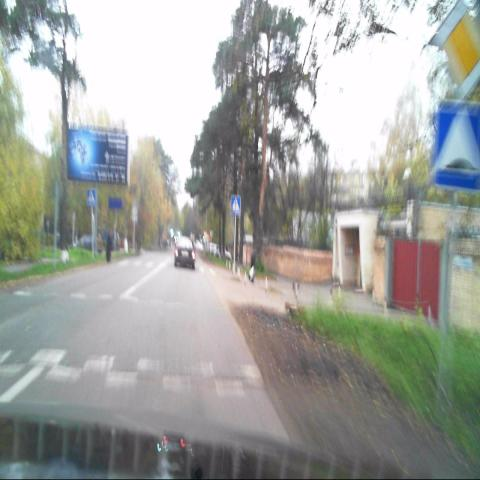2_1: (436, 2, 478, 97)
5_19_1: (230, 196, 240, 214), (86, 188, 96, 205)
5_20: (433, 101, 480, 192)
